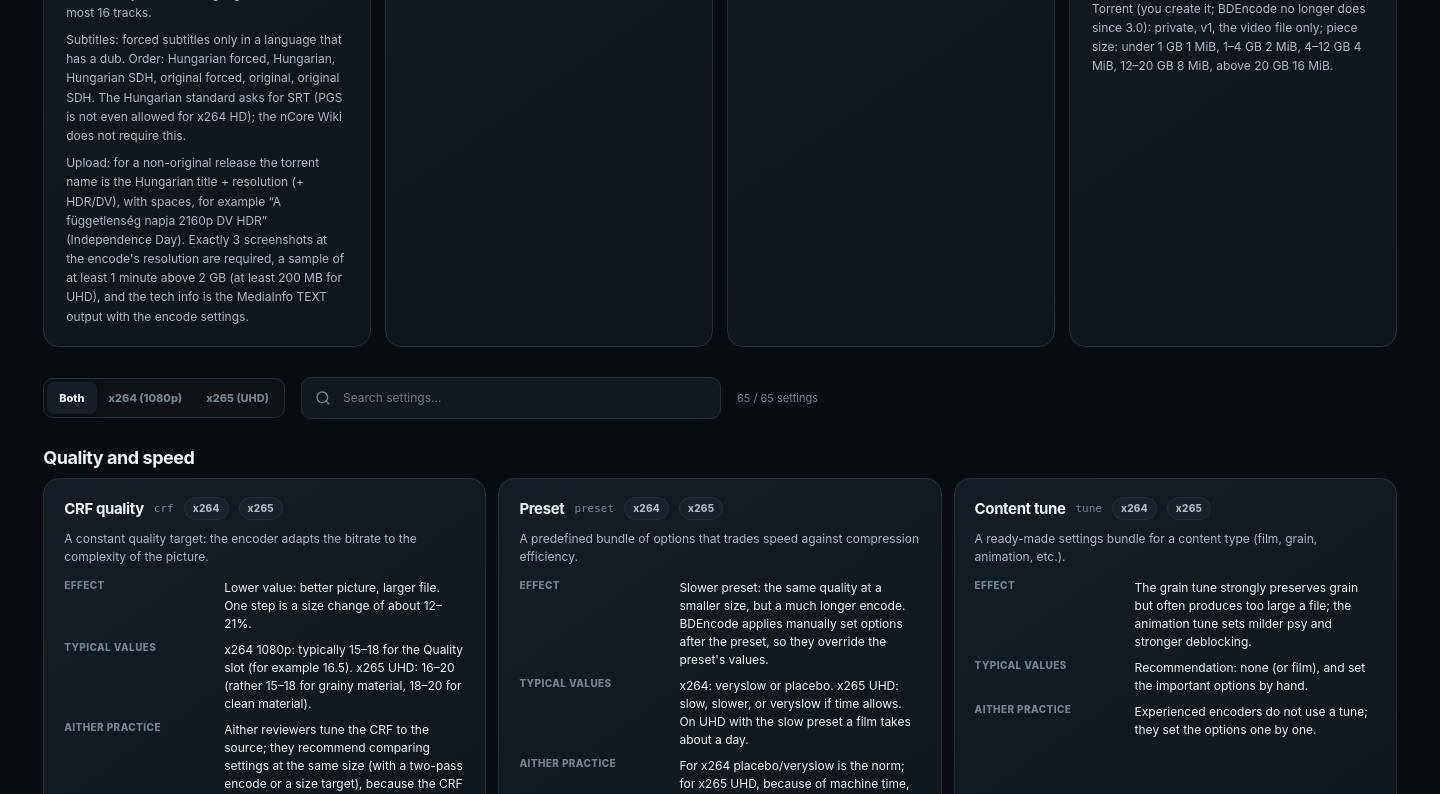
Test case: encoder help › shows and searches the help in English
The width and height of the screenshot is (1440, 794).
(page scrolled)
Check: the heading "CRF quality" is shown, box [64,499,144,518]
Click the button "x264 (1080p)". click: [145, 398]
box: [96,382,194,414]
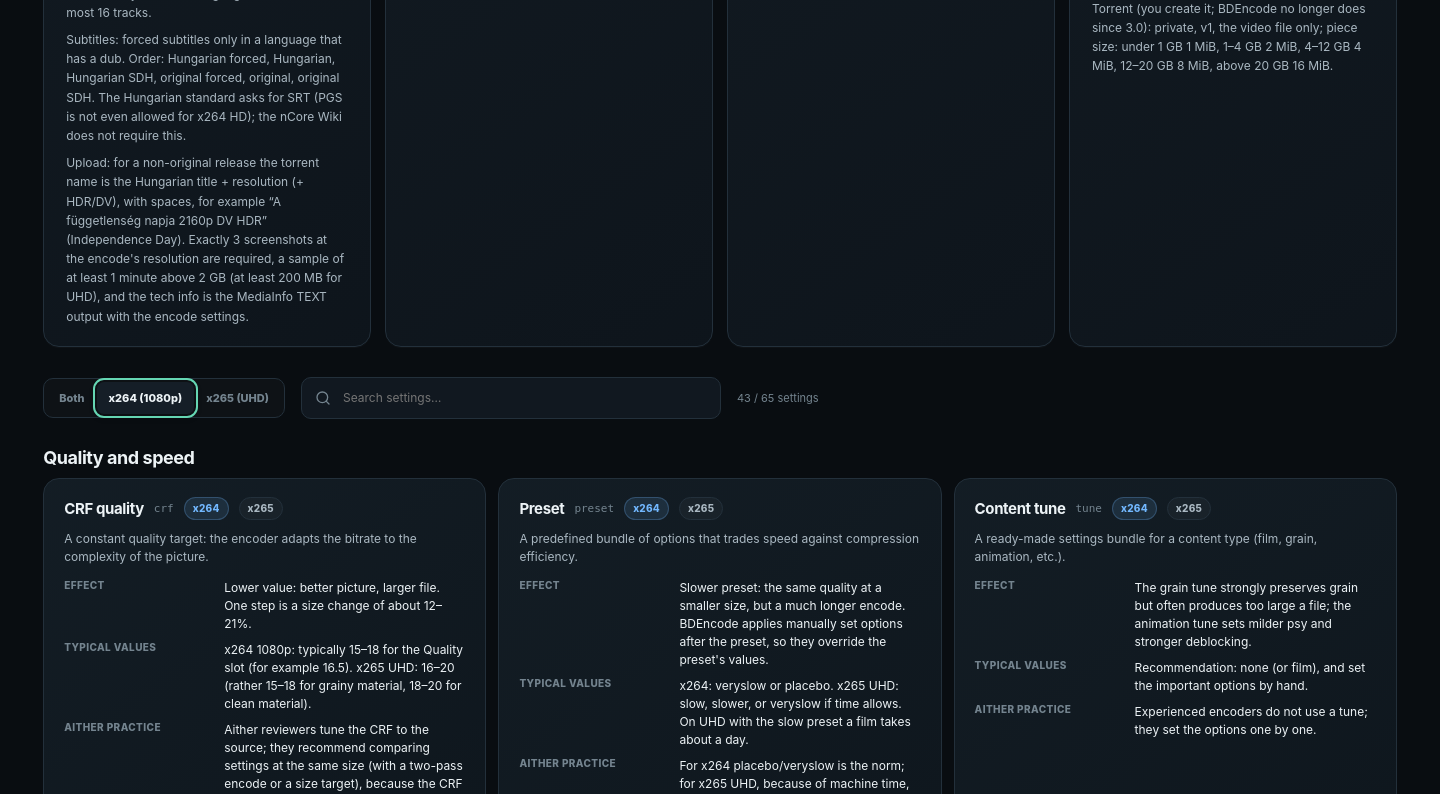
Check: the heading "SAO" is not shown
Note: The search looks at the English text: a Hungarian word finds nothing.
Click the button "Both". click: [72, 398]
box: [47,382,97,414]
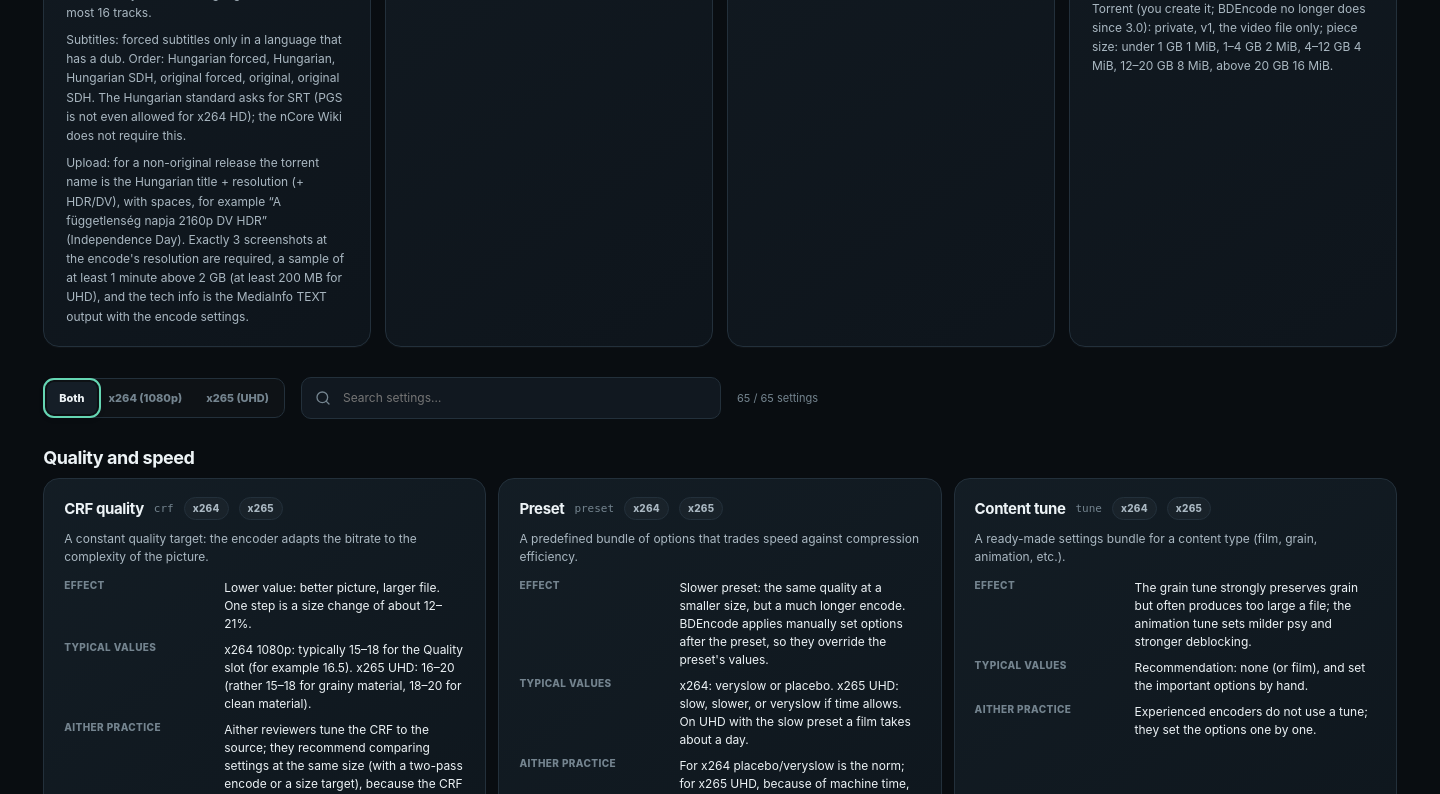
Type "smears fine detail" into the field labelled "Search settings". click: [524, 398]
box: [341,389,707,406]
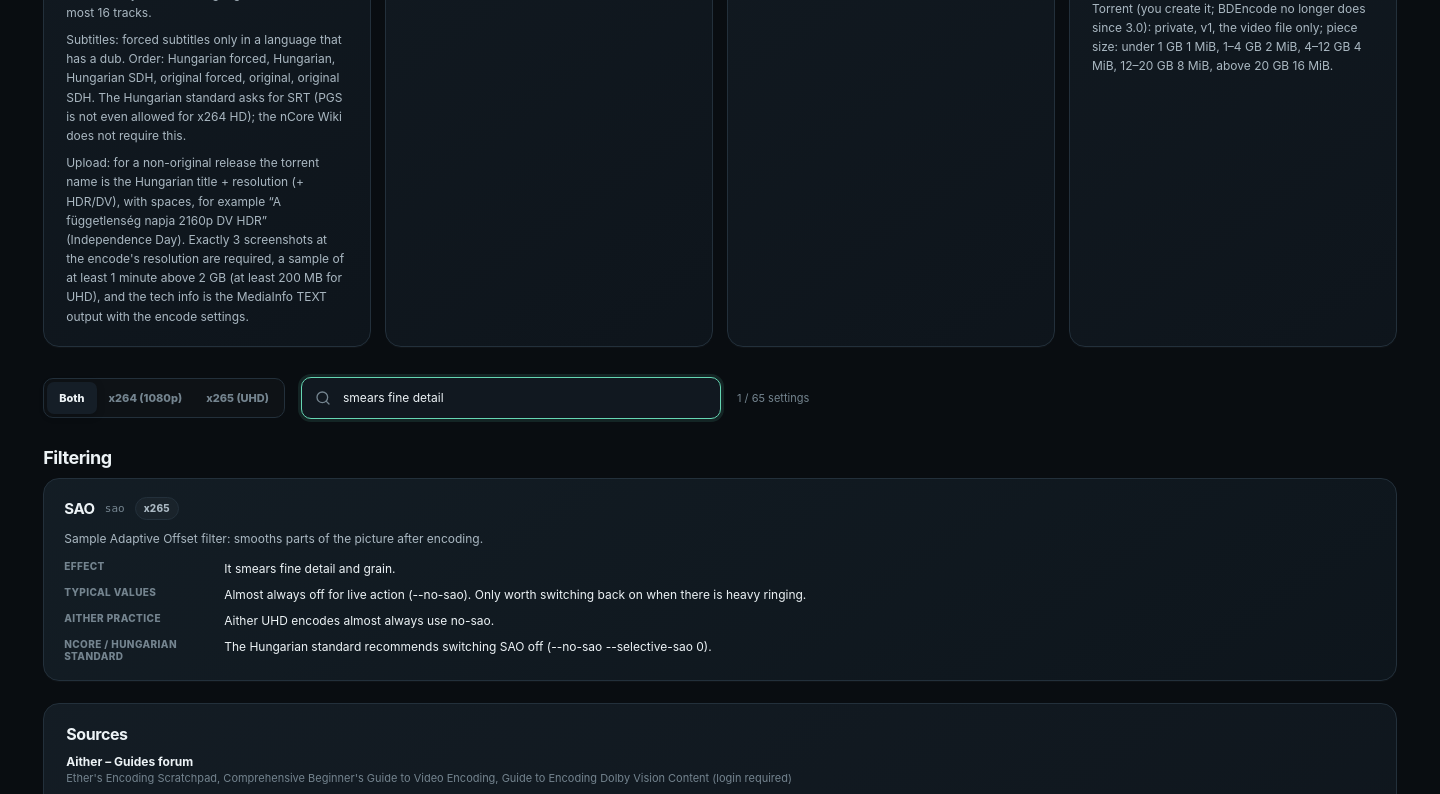
Check: the heading "SAO" is shown, box [64,499,95,518]
Replace the text in the field named "Search settings" with "szemcsét". click: [524, 398]
box: [341,389,707,406]
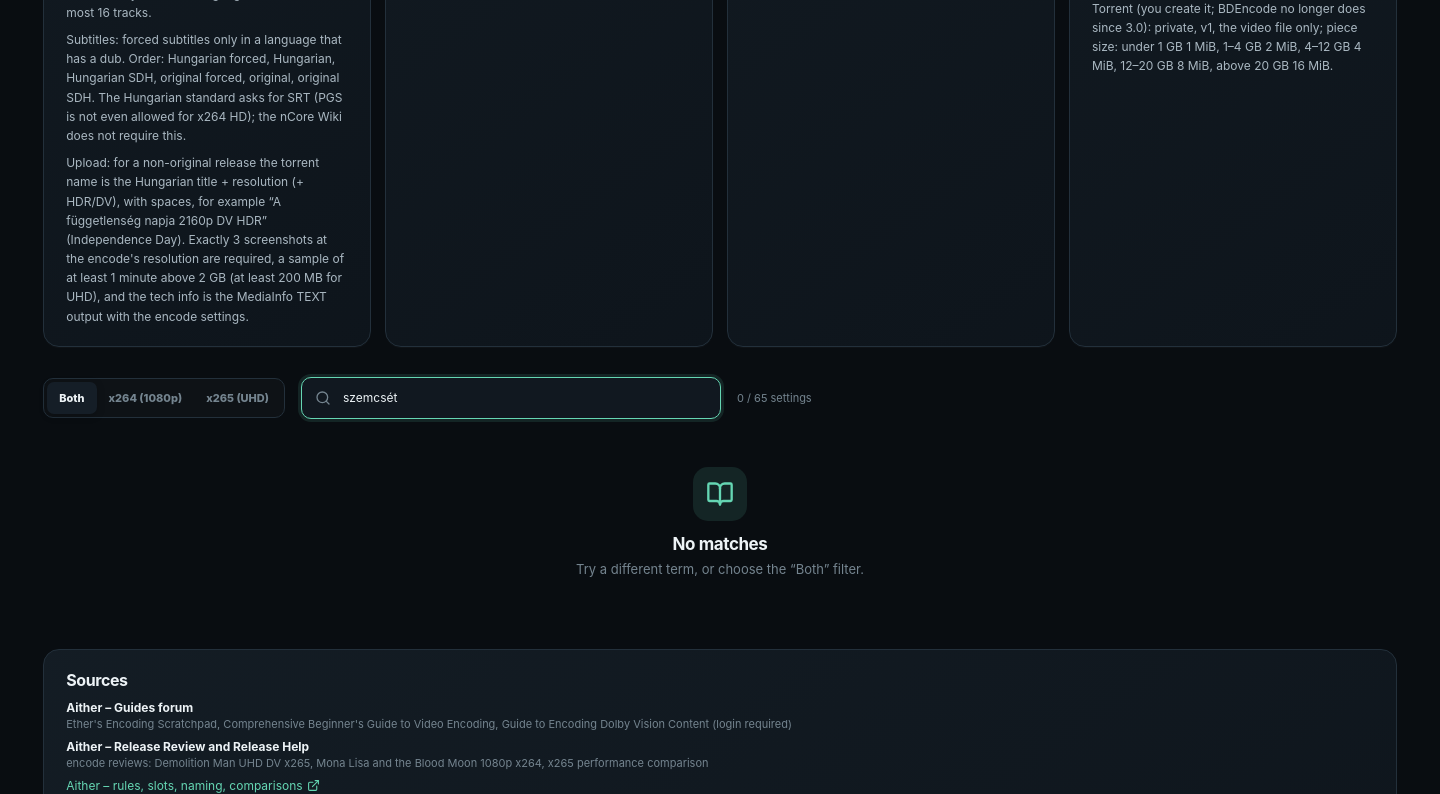
Check: the heading "No matches" is shown, box [673,534,767,554]
